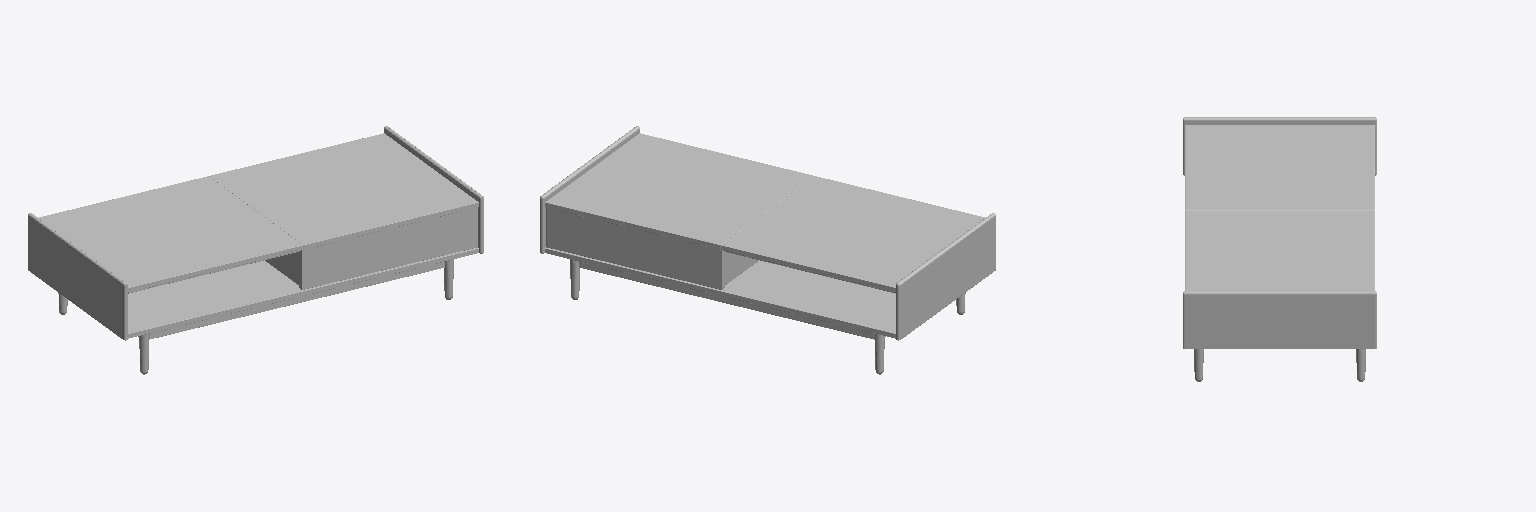
The model's file is Coffee_Table_01_BLEND.obj.
The picture shows the model from 3 angles: view 1: azimuth 30°, elevation 25°; view 2: azimuth 150°, elevation 25°; view 3: azimuth 270°, elevation 25°; orthographic projection.
Parts seen in each view (by area): view 1: Coffee_Table_01; view 2: Coffee_Table_01; view 3: Coffee_Table_01.
Part boxes in pixels (x1,y1,x2,y2): Coffee_Table_01: (28, 126, 483, 374); Coffee_Table_01: (540, 126, 995, 374); Coffee_Table_01: (1183, 117, 1376, 381).
Bounding box in the file's own units: 1.54 × 0.42 × 0.72.